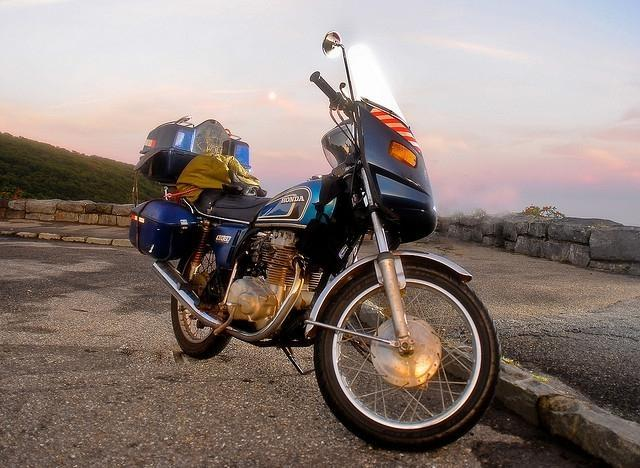motorcycle: (128, 28, 504, 458)
